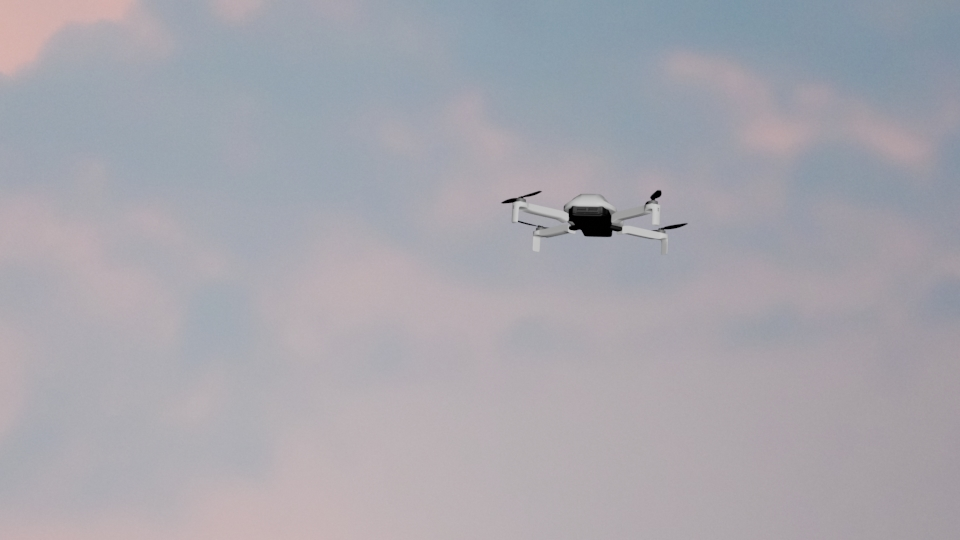drone: (500, 190, 689, 254)
